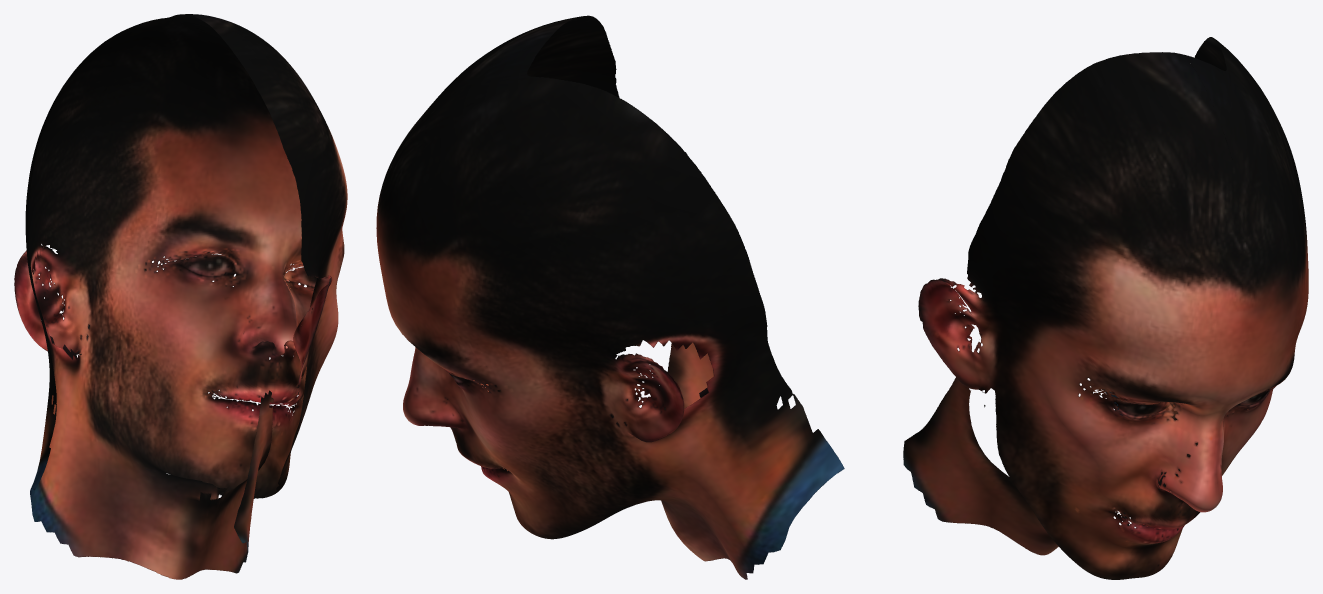
File: 3D ali face.fbx
3 views of the same model, side by side, from view 1: azimuth 30°, elevation 25°; view 2: azimuth 150°, elevation 25°; view 3: azimuth 270°, elevation 25° (orthographic). The views are drawn at different scales.
Parts seen in each view (by area): view 1: FaceBuilderHead; view 2: FaceBuilderHead; view 3: FaceBuilderHead.
Boxes of the visible parts, x1,y1,x2,y2 form: FaceBuilderHead: (14,14,347,579); FaceBuilderHead: (376,15,844,579); FaceBuilderHead: (903,37,1308,579).
Bounding box in the file's own units: 179 × 240 × 160.
Materials: 1 (1 with a texture image).
